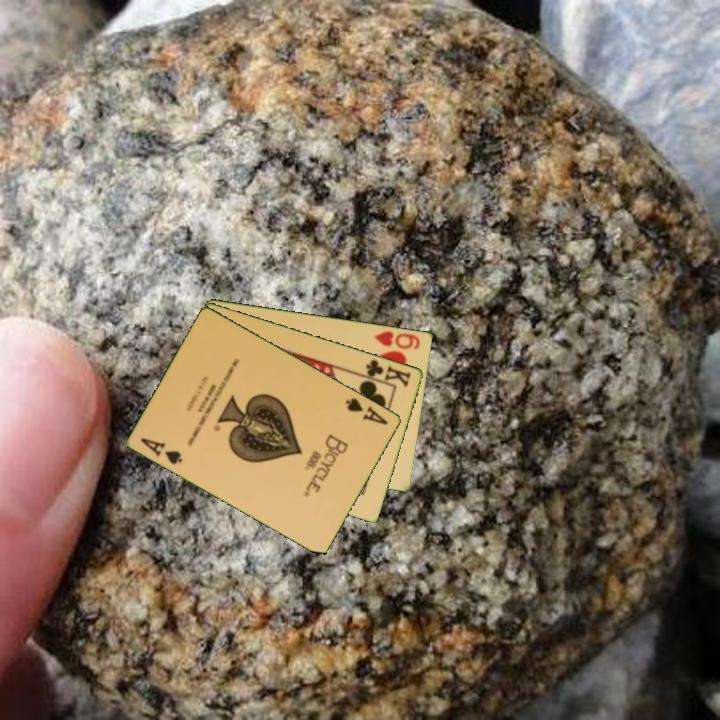6h: (371, 327, 423, 352)
As: (342, 394, 391, 428), (137, 434, 186, 467)
Kc: (358, 356, 414, 390)
